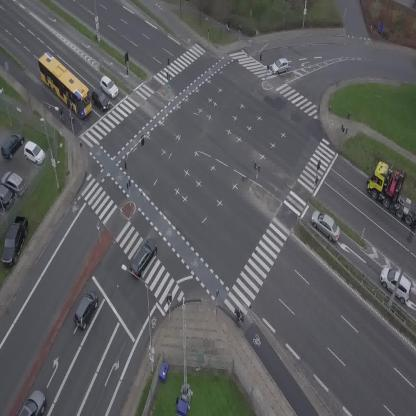bicycle: (230, 307, 247, 328), (222, 20, 231, 33), (58, 107, 65, 121)
bus: (30, 49, 101, 120)
car: (124, 234, 163, 281), (68, 287, 103, 331), (306, 207, 346, 244), (18, 387, 53, 416), (86, 87, 114, 114), (96, 74, 121, 100), (271, 58, 289, 75)
